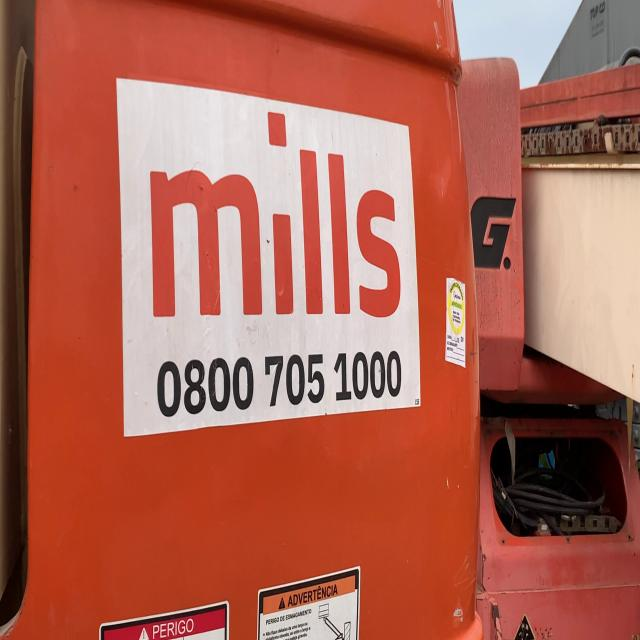Adesivos: (113, 73, 428, 445)
